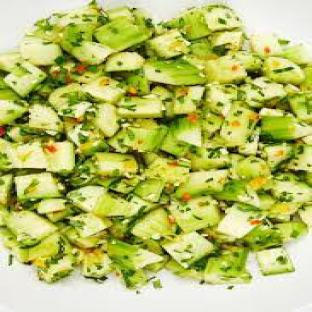Cucumber: (169, 197, 221, 232), (162, 232, 214, 267), (94, 19, 150, 51), (108, 240, 163, 271), (6, 212, 56, 246), (205, 248, 252, 284), (217, 204, 265, 239), (220, 104, 259, 147), (144, 59, 206, 85), (176, 170, 228, 200), (4, 62, 46, 97), (166, 8, 211, 39), (132, 208, 173, 239), (14, 173, 61, 200), (243, 78, 286, 107), (145, 157, 190, 184), (263, 57, 305, 85), (21, 37, 63, 65), (147, 30, 189, 58), (205, 56, 247, 83), (6, 142, 47, 169), (82, 77, 124, 103), (171, 113, 202, 147), (203, 4, 242, 31), (69, 214, 112, 238), (256, 248, 294, 275), (205, 83, 236, 116), (67, 187, 107, 212), (118, 96, 165, 117), (191, 146, 230, 171), (96, 153, 138, 176), (72, 41, 114, 64), (45, 141, 75, 173), (82, 249, 114, 279), (93, 192, 131, 217), (28, 105, 63, 131), (94, 104, 119, 137), (174, 87, 204, 114), (249, 33, 281, 56), (0, 99, 27, 125), (106, 53, 144, 71), (133, 180, 165, 201), (212, 30, 243, 51), (290, 92, 311, 123), (280, 45, 311, 64), (289, 146, 311, 172), (0, 52, 23, 72), (38, 199, 66, 214), (0, 174, 13, 205)
